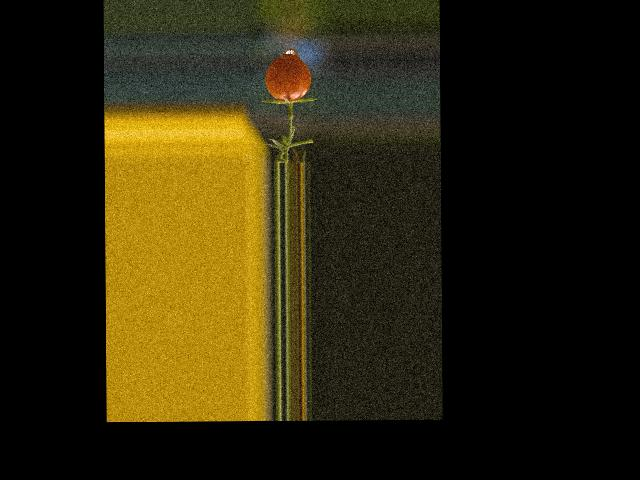tomato: (265, 55, 312, 101)
